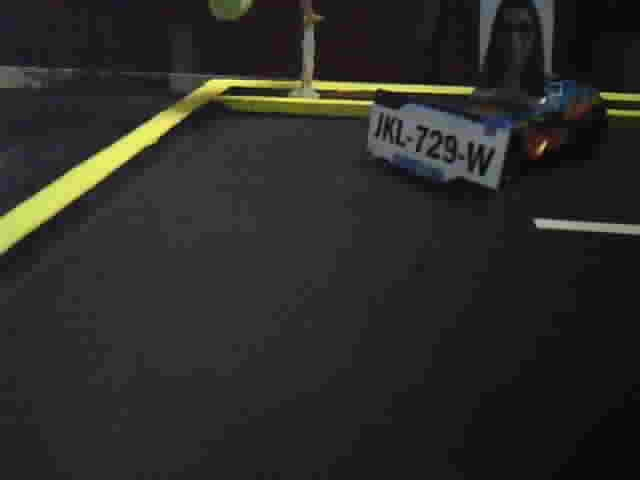PLACA: (363, 88, 512, 204)
ROSTRO: (482, 2, 549, 95)
